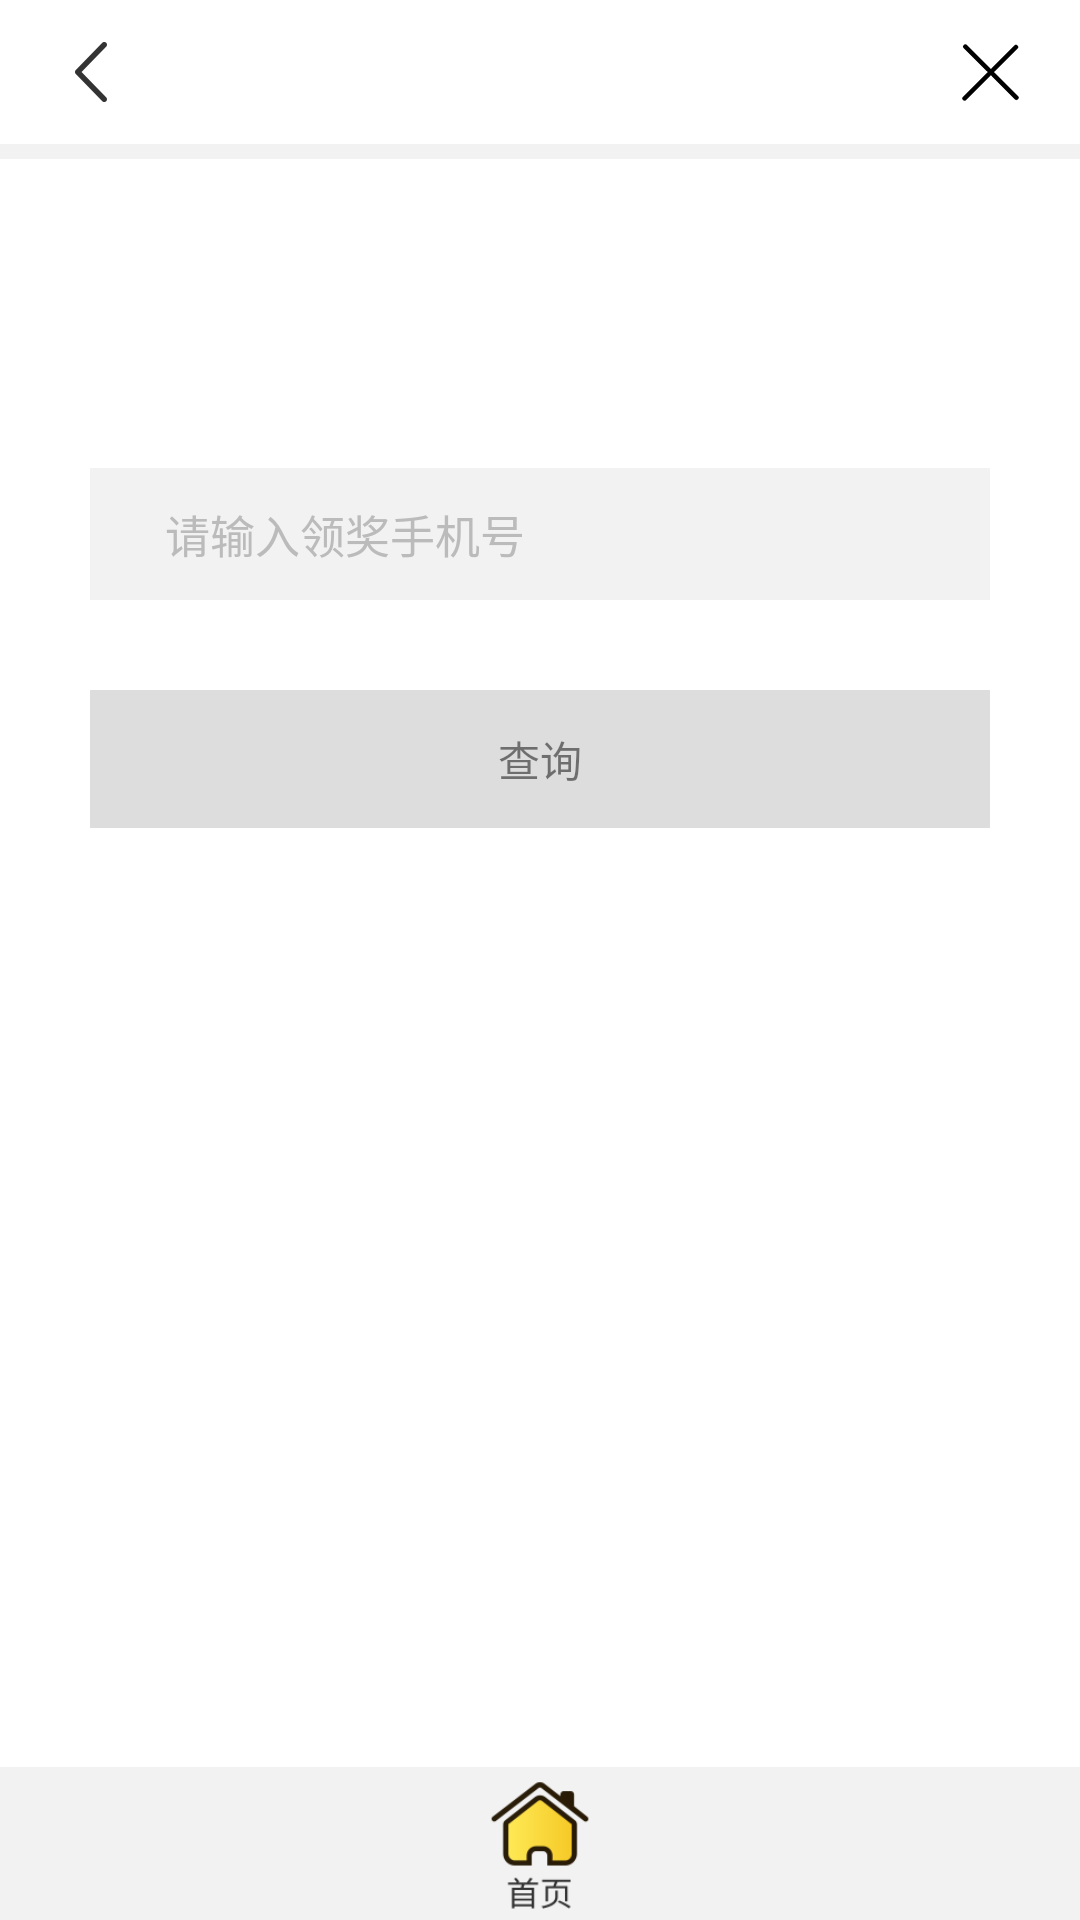

Icons on this 1080*1920 Android screen, each with its box as (x1, y1, x2, y2):
上一步: (75, 42, 107, 102)
